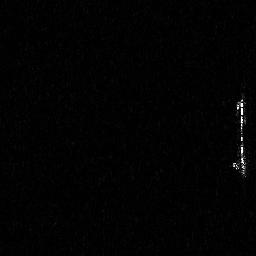ship: (233, 96, 249, 181)
